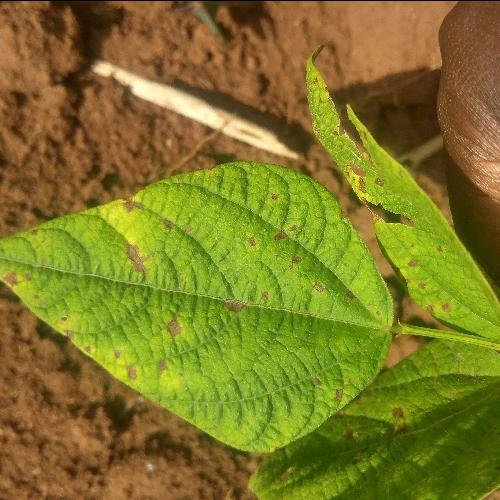mozaik: (286, 46, 493, 324), (43, 168, 203, 414)
